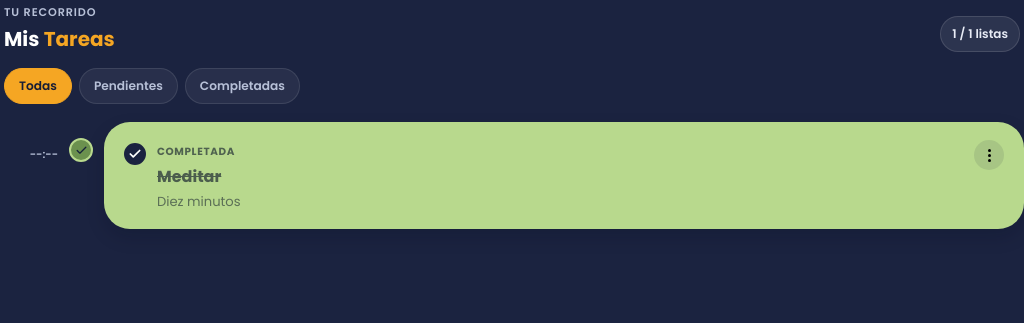
Test: TaskList › muestra el estado vacío cuando el filtro no tiene tareas
Click the button "Pendientes" at (128, 86), box [79,68,178,104]
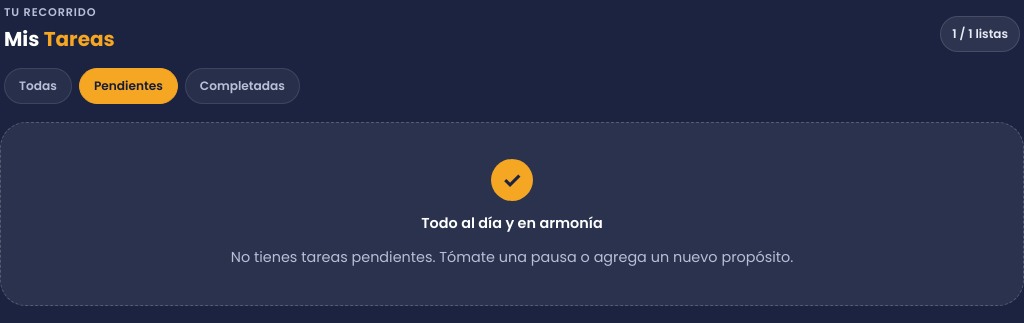
Result: the text "Todo al día y en armonía" is shown at [421,211,603,235]
